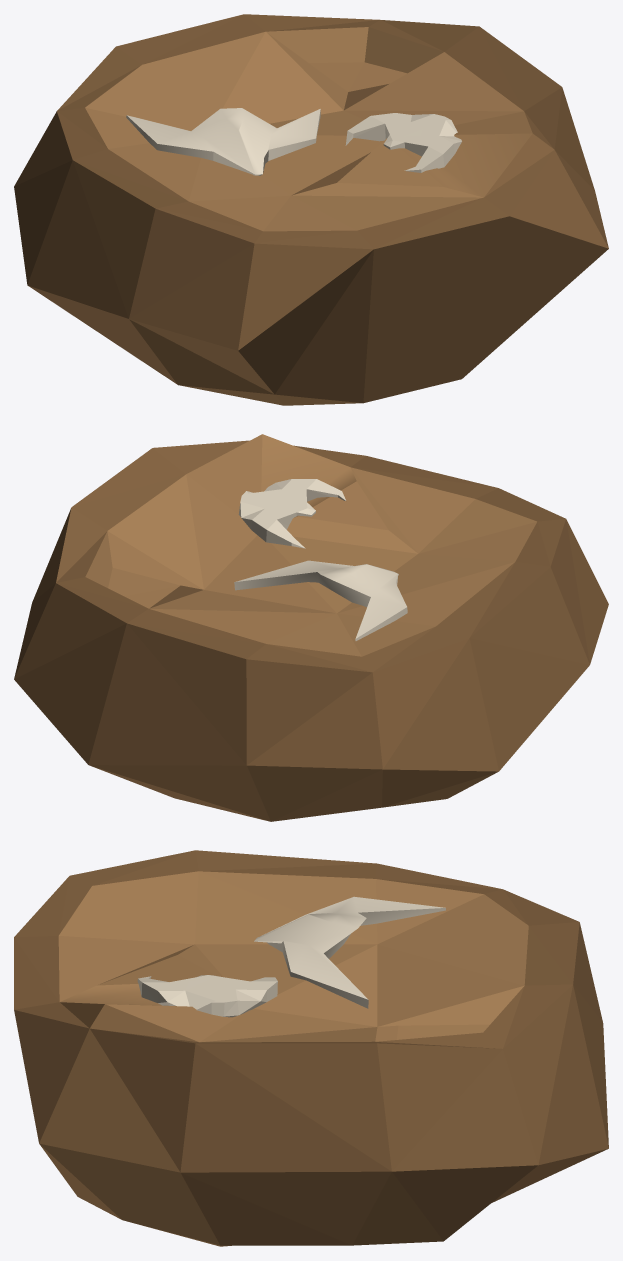
Rendered from fossil 3.fbx.
3 renders of one model, top to bottom at view 1: azimuth 30°, elevation 25°; view 2: azimuth 150°, elevation 25°; view 3: azimuth 270°, elevation 25°, orthographic. The views are drawn at different scales.
Visible parts, largest first — view 1: pCube22, pCube23, pCube24; view 2: pCube22, pCube23, pCube24; view 3: pCube22, pCube23, pCube24.
Boxes of the visible parts, x1=… form: pCube22: x1=14, y1=14, x2=608, y2=405; pCube23: x1=126, y1=108, x2=320, y2=175; pCube24: x1=345, y1=113, x2=461, y2=172; pCube22: x1=14, y1=434, x2=608, y2=821; pCube23: x1=234, y1=560, x2=407, y2=640; pCube24: x1=238, y1=479, x2=345, y2=548; pCube22: x1=14, y1=850, x2=608, y2=1246; pCube23: x1=254, y1=896, x2=445, y2=1008; pCube24: x1=137, y1=975, x2=277, y2=1017.
Size of the model in its own units: 1.45 by 0.761 by 1.42.
